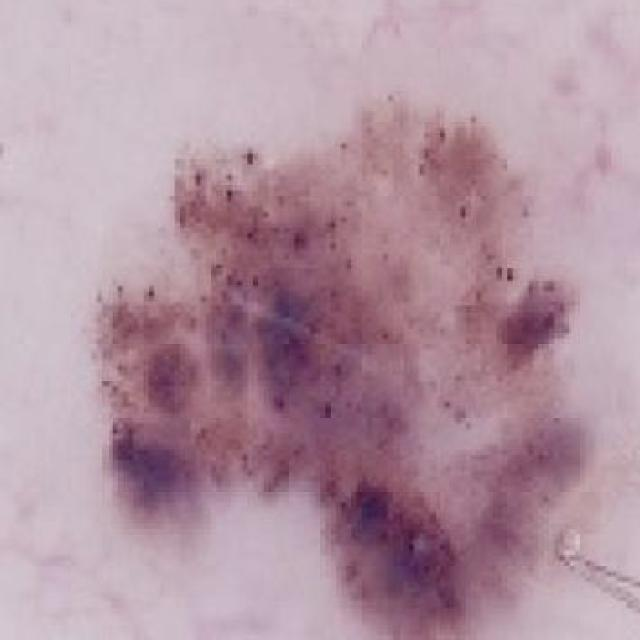BCC: (89, 63, 640, 640)
